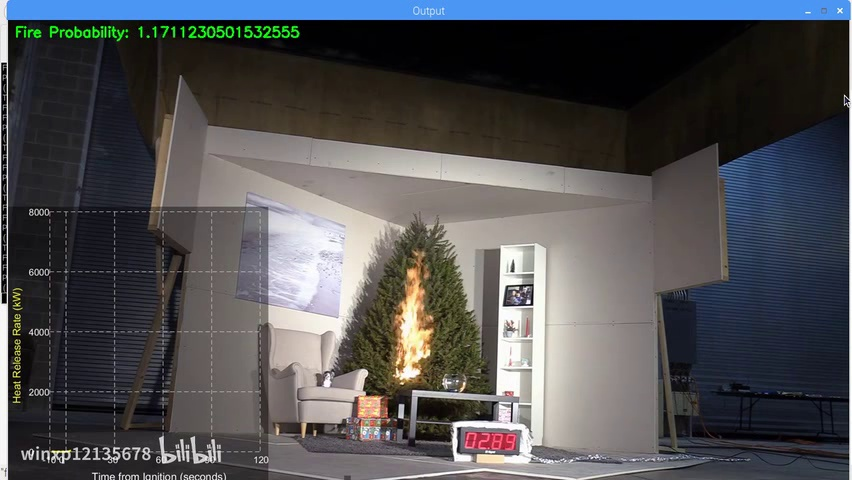fire: (391, 252, 435, 384)
